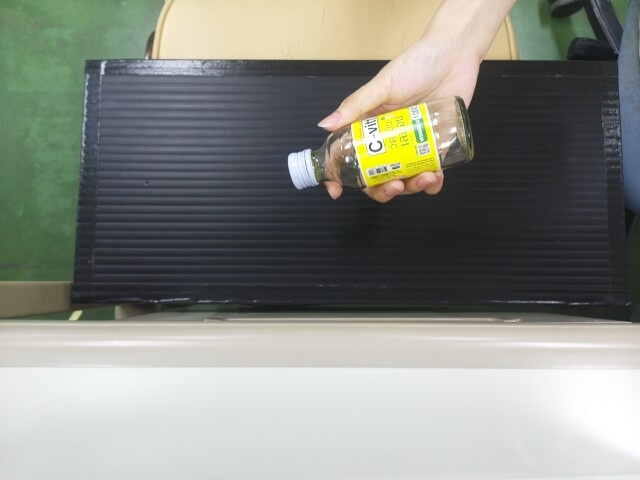glass_bottle: (284, 106, 474, 184)
